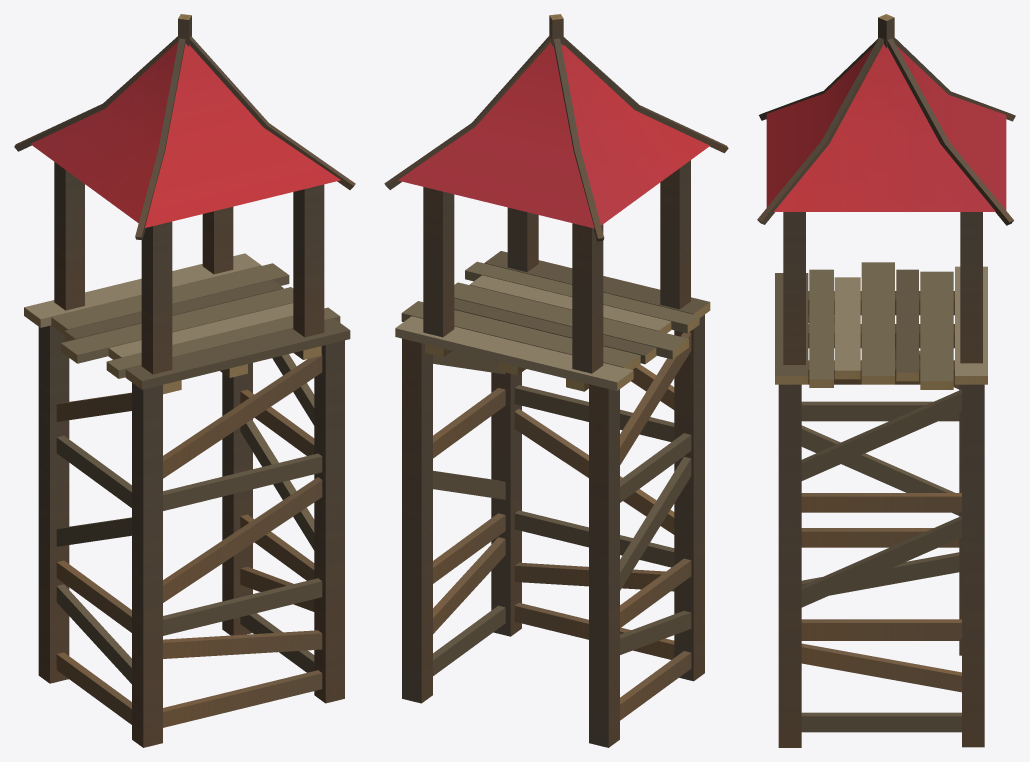
File: Guard_Tower_LOD1.fbx
The picture shows the model from 3 angles, left to right: view 1: azimuth 30°, elevation 25°; view 2: azimuth 150°, elevation 25°; view 3: azimuth 270°, elevation 25°; orthographic projection.
Visible parts, largest first — view 1: polySurface9750; view 2: polySurface9750; view 3: polySurface9750.
Part boxes in pixels (box(x1,y1,x2,y2)): polySurface9750: box(14, 14, 355, 747); polySurface9750: box(384, 14, 728, 747); polySurface9750: box(757, 14, 1015, 747).
Size of the model in its own units: 342 by 907 by 314.
